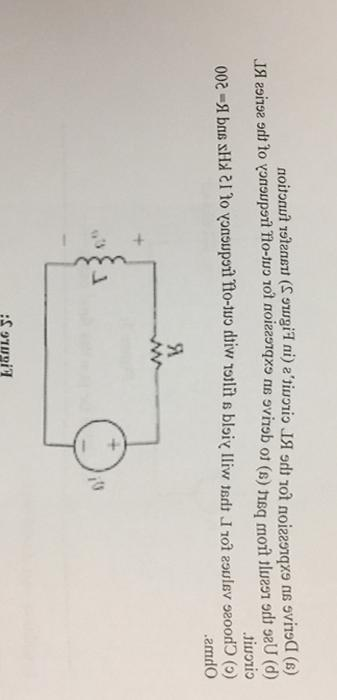Battery: (61, 407, 139, 475)
